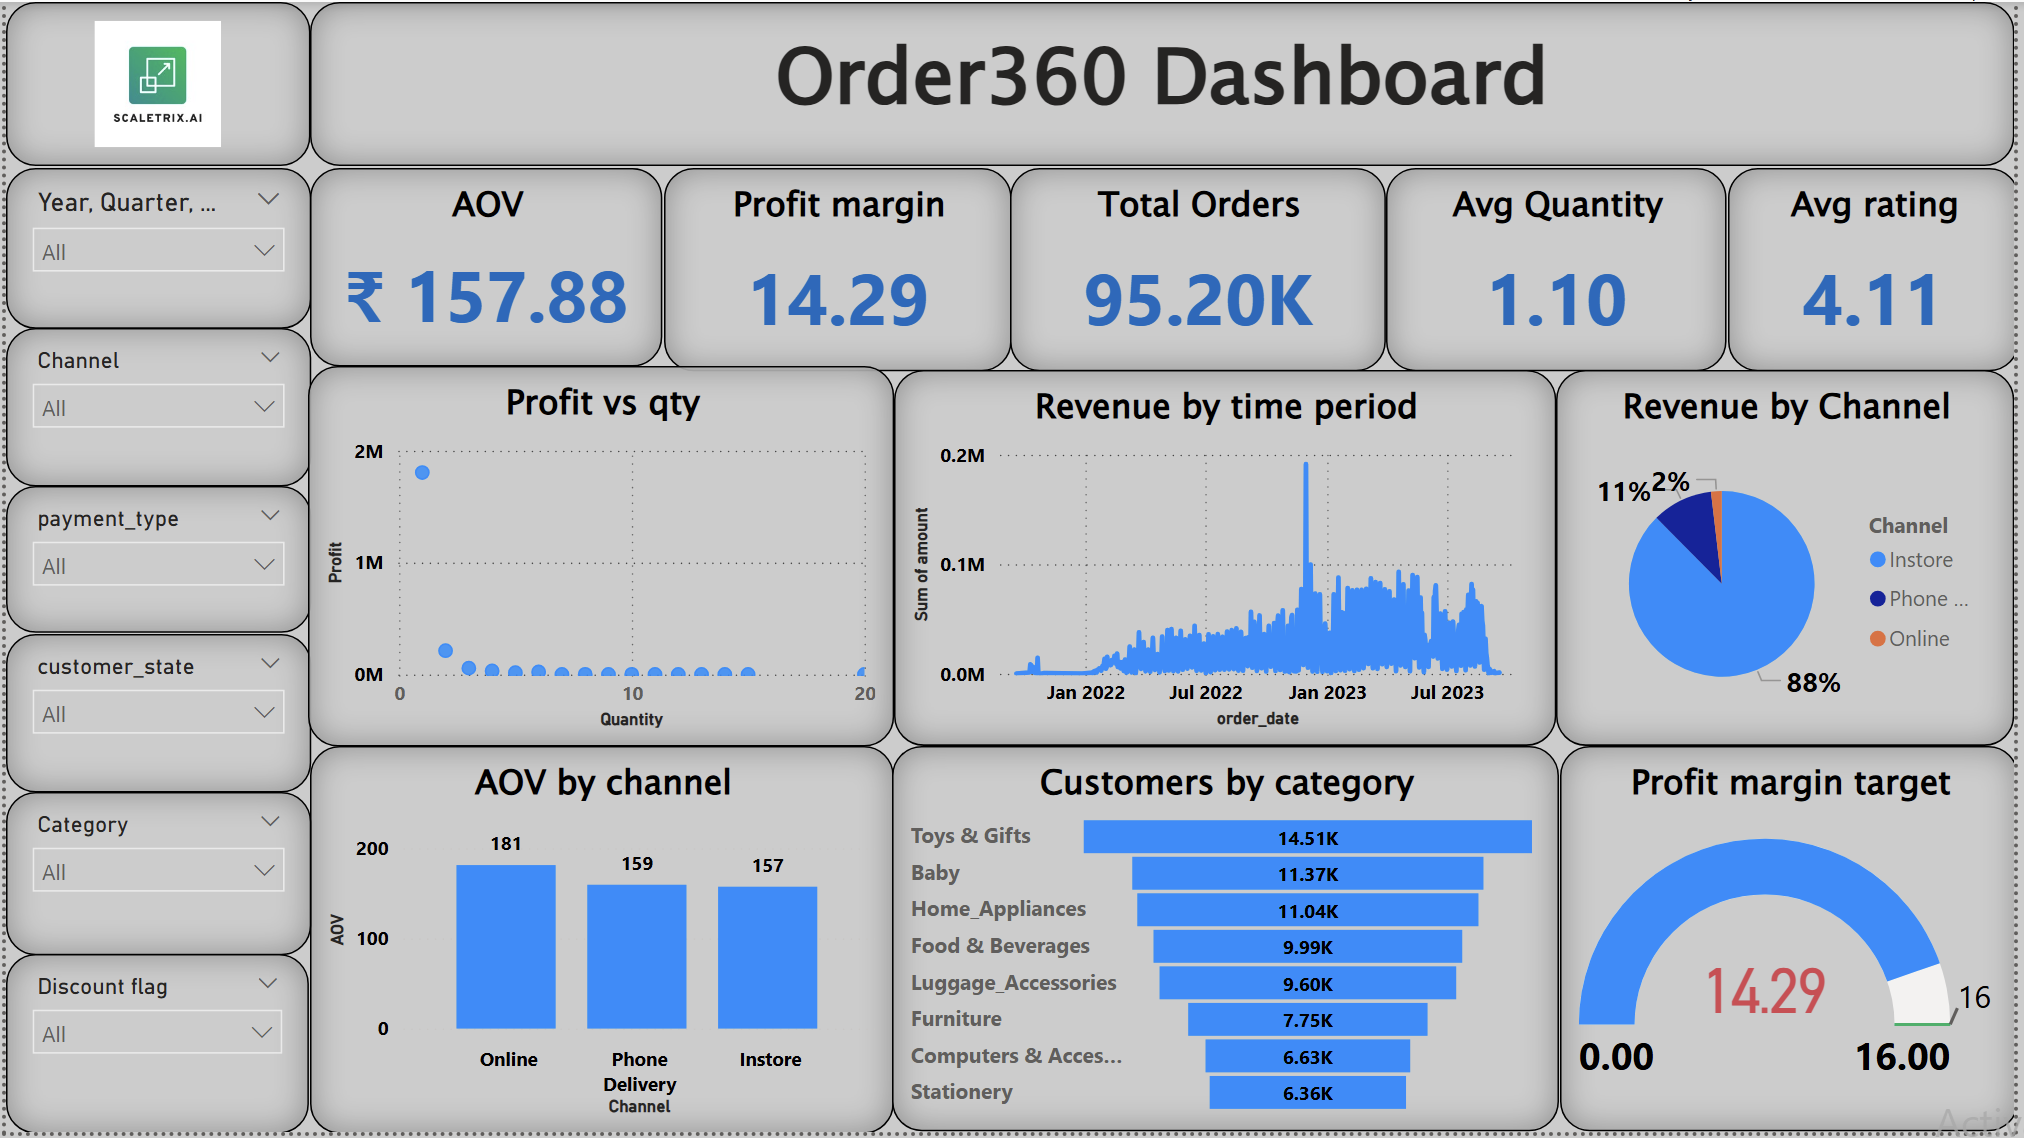

Layout of this report page (visuals, bound fields, positions):
{"tool":"powerbi","page":{"name":"Order360","canvas":[1280,720],"ordinal":5},"visuals":[{"type":"textbox","box":[193.8,0,1085.9,104.7],"z":0},{"type":"image","box":[0,0,193.8,104.7],"z":1000},{"type":"slicer","fields":{"Values":["Order360new.order_date.Variation.Date Hierarchy.Year","Order360new.order_date.Variation.Date Hierarchy.Quarter","Order360new.order_date.Variation.Date Hierarchy.Month"]},"box":[0,105.4,194.3,102.4],"z":2000},{"type":"card","title":"Profit margin","fields":{"Values":["Customer360new.Profit margin"]},"box":[418.7,105.4,221.4,129.5],"z":3000},{"type":"card","title":"AOV","fields":{"Values":["Avg(Order360new.amount)"]},"box":[194.3,105.4,224.4,126.5],"z":4000},{"type":"card","title":"Total Orders","fields":{"Values":["CountNonNull(Order360new.order_id)"]},"box":[640.2,105.4,239.5,129.5],"z":5000},{"type":"card","title":"Avg rating","fields":{"Values":["Avg(Order360new.avg_rating)"]},"box":[1096.6,105.4,185.3,129.5],"z":6000},{"type":"card","title":"Avg Quantity","fields":{"Values":["Avg(Order360new.qty)"]},"box":[879.7,105.4,216.9,129.5],"z":7000},{"type":"slicer","fields":{"Values":["Order360new.Channel"]},"box":[0,207.9,194.3,100.9],"z":8000},{"type":"slicer","fields":{"Values":["Order360new.payment_type"]},"box":[0,308.8,194.3,93.4],"z":9000},{"type":"slicer","fields":{"Values":["Customer360new.customer_state"]},"box":[0,402.2,194.3,100.9],"z":10000},{"type":"pieChart","title":"Revenue by Channel","fields":{"Y":["Sum(Order360new.amount)"],"Category":["Order360new.Channel"]},"box":[988.1,235,292.2,239.5],"z":11000},{"type":"lineChart","title":"Revenue by time period","fields":{"Category":["Order360new.order_date Hierarchy.order_date"],"Y":["Sum(Order360new.amount)"]},"box":[566.4,235,421.8,239.5],"z":12000},{"type":"scatterChart","title":"Profit vs qty","fields":{"X":["Order360new.qty"],"Y":["Sum(Order360new.total_profit)"]},"box":[192.8,232,373.6,242.5],"z":13000},{"type":"columnChart","title":"AOV by channel","fields":{"Category":["Order360new.Channel"],"Y":["Avg(Order360new.amount)"]},"box":[194.3,474.5,372.1,247],"z":14000},{"type":"gauge","title":"Profit margin target","fields":{"Y":["Customer360new.Profit margin"],"TargetValue":["Customer360new.Profit Margin Target"]},"box":[989.6,474.5,292.2,245.5],"z":15000},{"type":"slicer","fields":{"Values":["Productsinfo.Category"]},"box":[0,503.1,194.3,103.9],"z":16000},{"type":"funnel","title":"Customers by category","fields":{"Category":["Productsinfo.Category"],"Y":["Count(cleanedOrders.Customer_id)"]},"box":[564.9,474.5,424.8,245.5],"z":17000},{"type":"slicer","fields":{"Values":["Customer360new.Discount flag"]},"box":[0,607,192.8,114.5],"z":18000}]}

Visuals, with their boxes in screenshot pixels (x1, y1, x2, y2), scaled from the page's 1280x720 canvas onto the 2024x1138 screenshot:
textbox: {"left": 306, "top": 0, "right": 2023, "bottom": 165}
image: {"left": 0, "top": 0, "right": 306, "bottom": 165}
slicer - Order360new.order_date.Variation.Date Hierarchy.Year x Order360new.order_date.Variation.Date Hierarchy.Quarter: {"left": 0, "top": 167, "right": 307, "bottom": 328}
"Profit margin" card: {"left": 662, "top": 167, "right": 1012, "bottom": 371}
"AOV" card: {"left": 307, "top": 167, "right": 662, "bottom": 367}
"Total Orders" card: {"left": 1012, "top": 167, "right": 1391, "bottom": 371}
"Avg rating" card: {"left": 1734, "top": 167, "right": 2023, "bottom": 371}
"Avg Quantity" card: {"left": 1391, "top": 167, "right": 1734, "bottom": 371}
slicer - Order360new.Channel: {"left": 0, "top": 329, "right": 307, "bottom": 488}
slicer - Order360new.payment_type: {"left": 0, "top": 488, "right": 307, "bottom": 636}
slicer - Customer360new.customer_state: {"left": 0, "top": 636, "right": 307, "bottom": 795}
"Revenue by Channel" pieChart: {"left": 1562, "top": 371, "right": 2023, "bottom": 750}
"Revenue by time period" lineChart: {"left": 896, "top": 371, "right": 1563, "bottom": 750}
"Profit vs qty" scatterChart: {"left": 305, "top": 367, "right": 896, "bottom": 750}
"AOV by channel" columnChart: {"left": 307, "top": 750, "right": 896, "bottom": 1137}
"Profit margin target" gauge: {"left": 1565, "top": 750, "right": 2023, "bottom": 1137}
slicer - Productsinfo.Category: {"left": 0, "top": 795, "right": 307, "bottom": 959}
"Customers by category" funnel: {"left": 893, "top": 750, "right": 1565, "bottom": 1137}
slicer - Customer360new.Discount flag: {"left": 0, "top": 959, "right": 305, "bottom": 1137}
